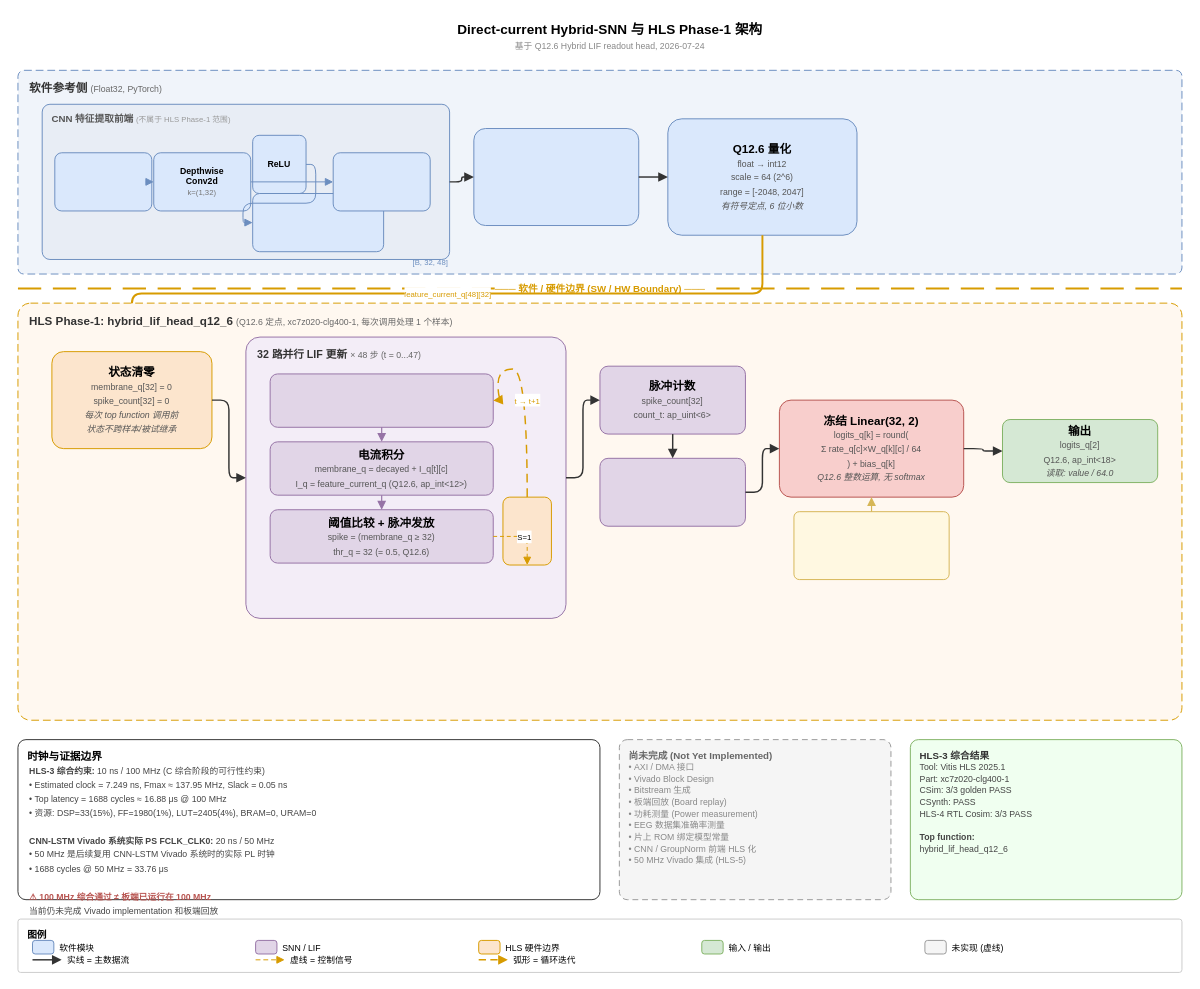
Some shapes in this 1200 by 989 pixel diagram are drawn without their labels. Here are the shapes that lost their labels. From the top down, the centre of each, then its label:
At (103,181): "Pointwise Conv2d k=(8,1)".
At (381,181): "Adaptive AvgPool1d T=48".
At (556,177): "布局转置 [32, 48] → [48][32] channel-first → time-first 仅转置, 不改数值".
At (318,222): "GroupNorm 16 grp".
At (381,400): "膜电位衰减 decayed = (58 × membrane_q) ÷ 64 β_q = 58 (≈ 0.90625, Q12.6)".
At (672,491): "脉冲频率 rate_q[32] = round(count×64/48)".
At (526,530): "Subtract Reset membrane_q -= 32 if spike=1".
At (871,545): "版本化模型常量 weight_q[2][32] Q12.6 bias_q[2] Q12.6 只读, 非运行时加载".
